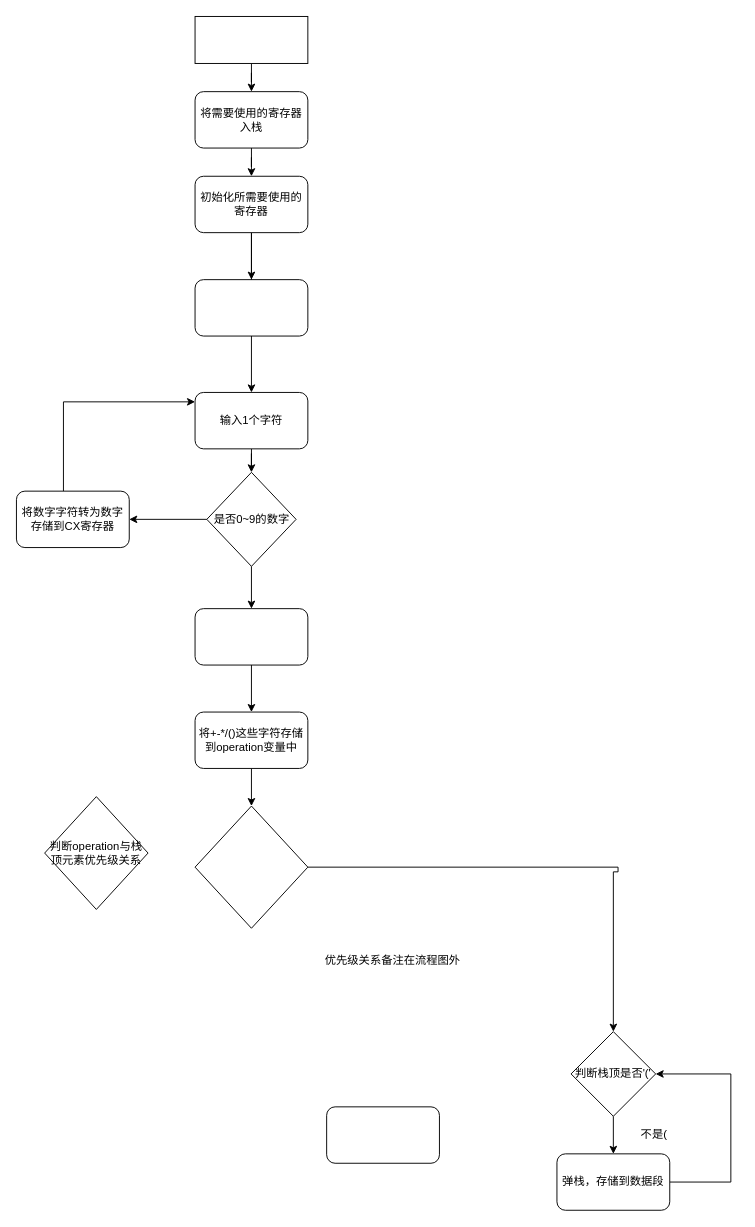
The diagram is 755 pixels wide and 1227 high, and some of its shapes have lost their labels. The shapes that lost their labels are listed below. From the top down, each one's box as (x1, y1, x2, y2) in pixels, then its label:
(194, 16, 308, 63): Input子程序开始
(194, 279, 308, 336): 将结束标志入栈，结束标志设置为0FFFFH
(194, 608, 308, 665): 将CX中的数据存储到数据段中
(194, 805, 308, 928): 判断operation是否')'
